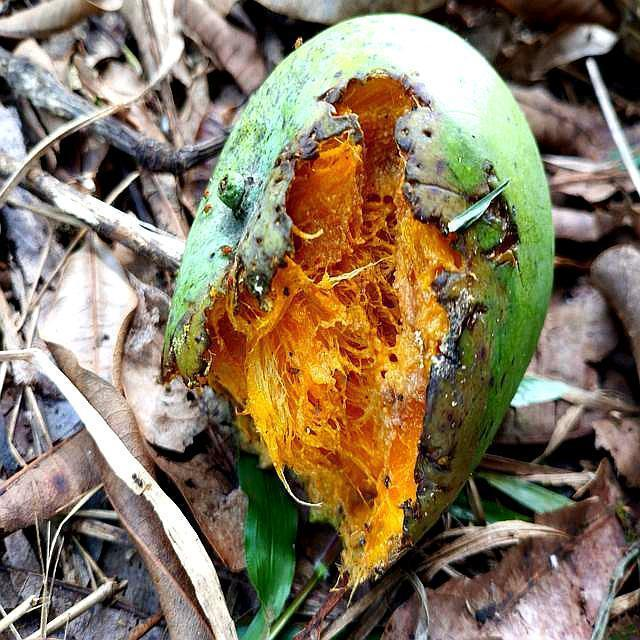Biodegradable: (167, 13, 555, 587)
